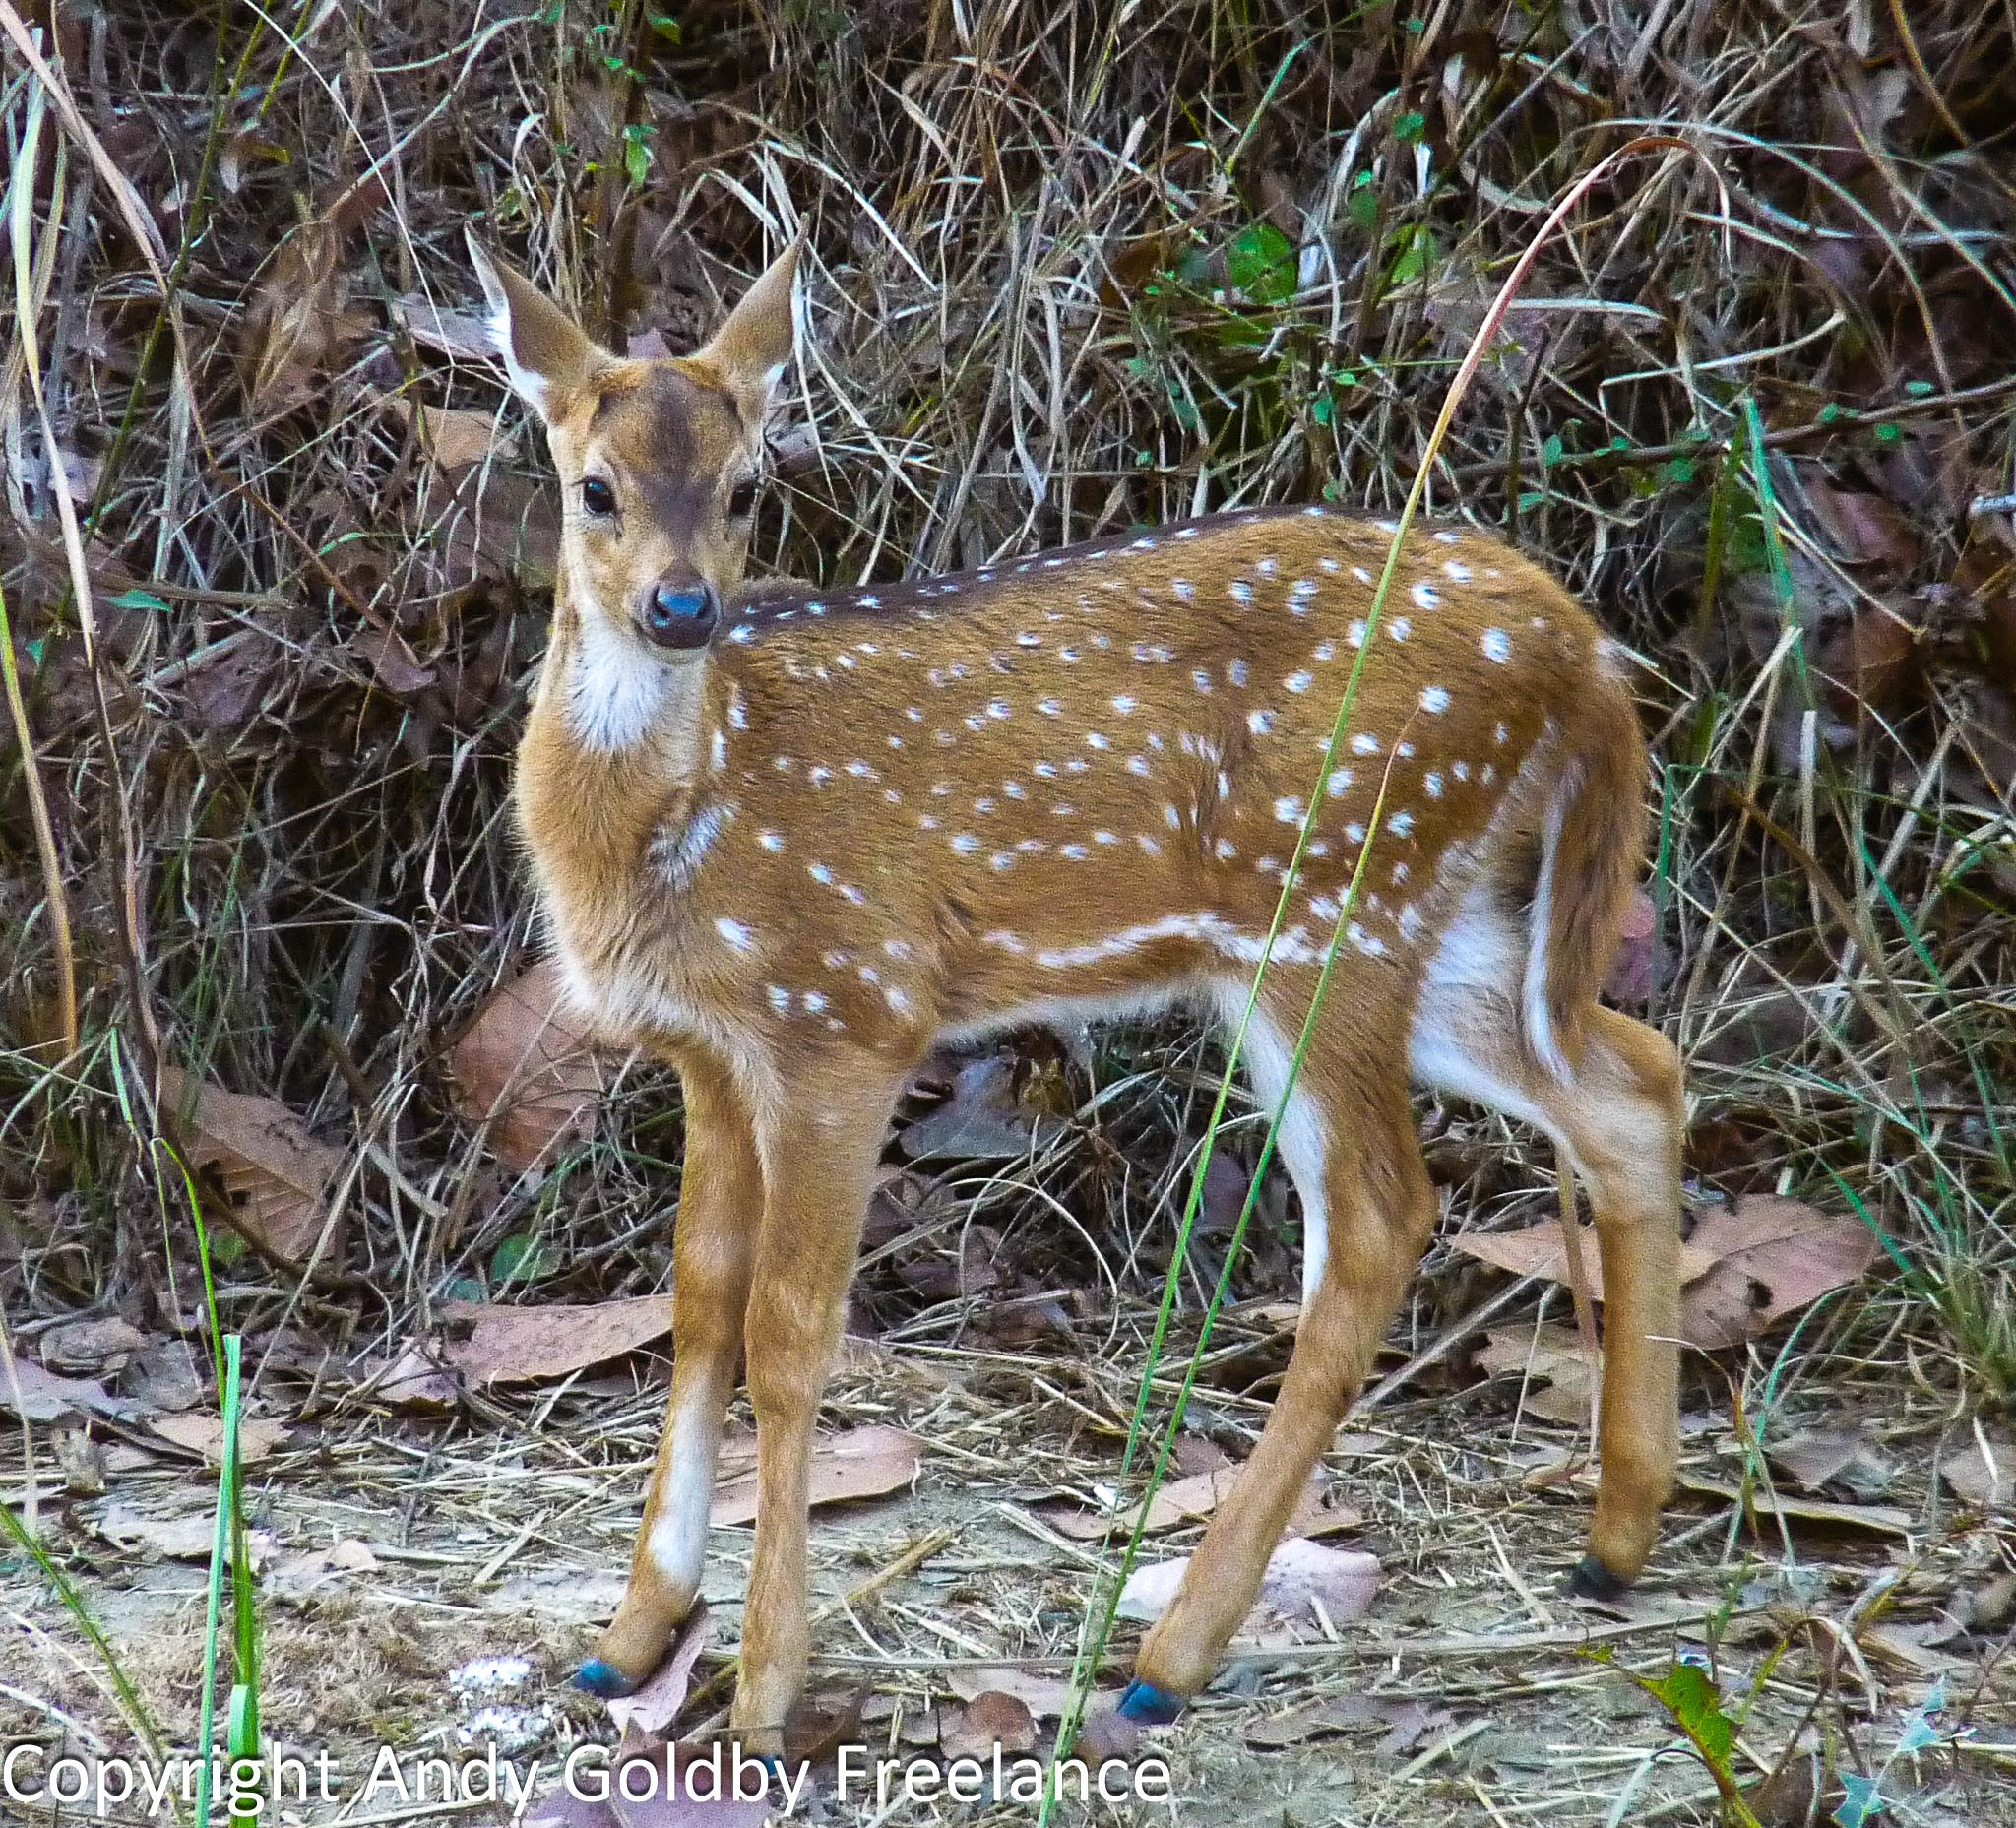Deer: (502, 256, 1684, 1745)
